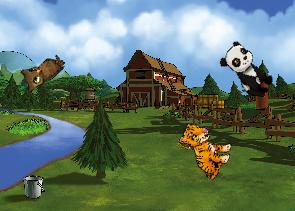owl: (14, 44, 67, 96)
panda: (215, 38, 280, 103)
tiger: (170, 119, 237, 182)
